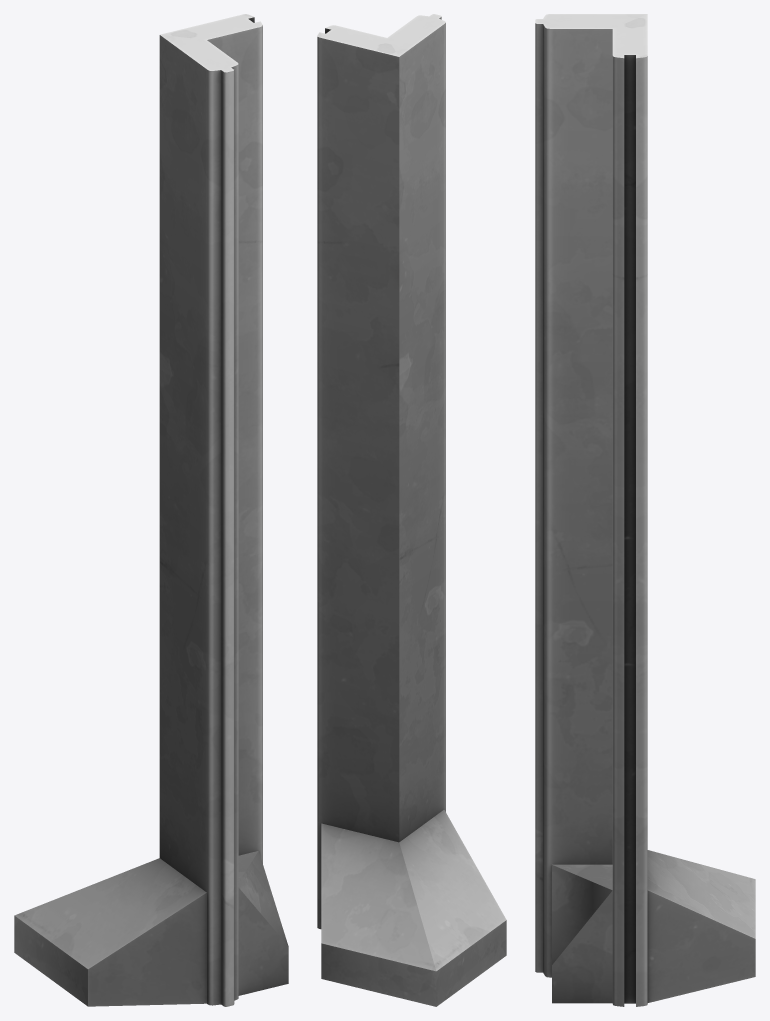
File: BarrierConcrete01_6.FBX
The picture shows the model from 3 angles, left to right: view 1: azimuth 30°, elevation 25°; view 2: azimuth 150°, elevation 25°; view 3: azimuth 270°, elevation 25°; orthographic projection. The views are drawn at different scales.
Visible parts, largest first — view 1: BarrierConcrete01_6; view 2: BarrierConcrete01_6; view 3: BarrierConcrete01_6.
Boxes of the visible parts, x1,y1,x2,y2 form: BarrierConcrete01_6: [14, 14, 288, 1006]; BarrierConcrete01_6: [317, 14, 506, 1006]; BarrierConcrete01_6: [535, 14, 755, 1006].
Size of what is drawn, in the model's own units: 0.6097 by 3 by 0.6321.
